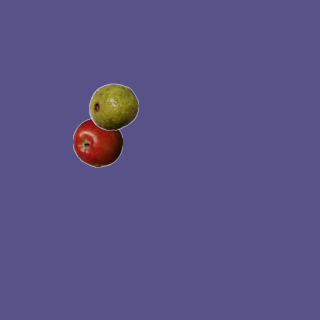Apple Braeburn: (72, 117, 122, 167)
Guava: (88, 81, 138, 131)
